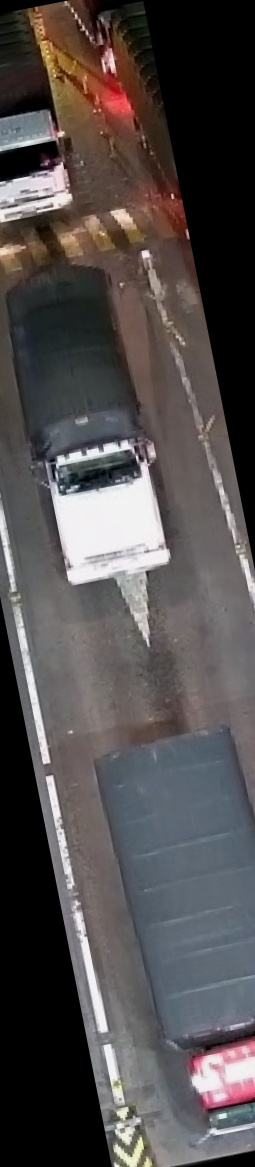truck: (80, 711, 255, 1150), (0, 246, 190, 601), (0, 6, 82, 232)
